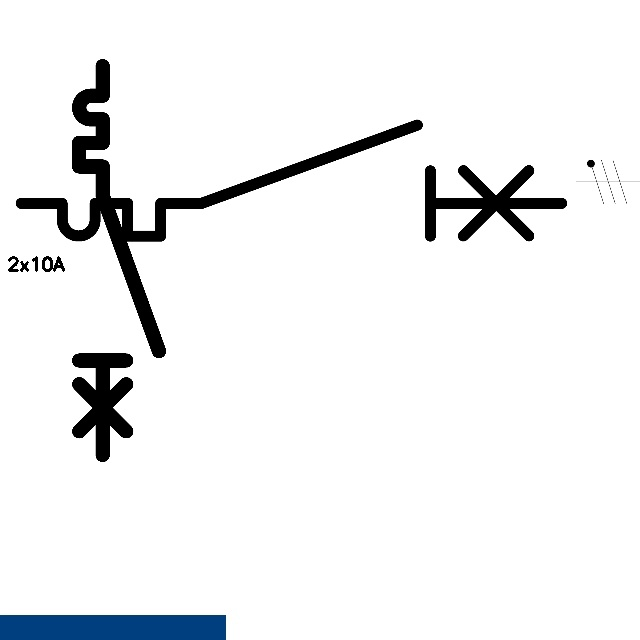interruptor_termomagnetico: (7, 111, 575, 250), (69, 56, 169, 465)
